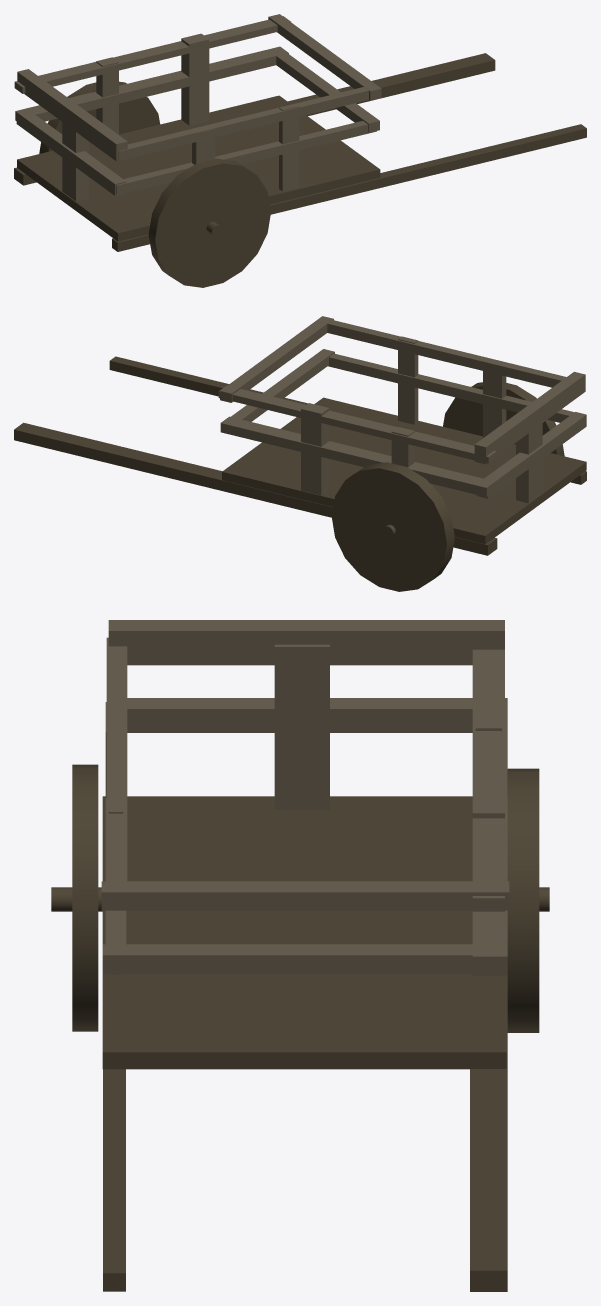
The model's file is carro.fbx.
The picture shows the model from 3 angles, top to bottom: view 1: azimuth 30°, elevation 25°; view 2: azimuth 150°, elevation 25°; view 3: azimuth 270°, elevation 25°; orthographic projection. The views are drawn at different scales.
Parts seen in each view (by area): view 1: Box017_1, Cylinder003_1, Cylinder002_1, Box003_1; view 2: Box017_1, Cylinder002_1, Cylinder003_1, Box003_1; view 3: Cylinder003_1, Box017_1, Cylinder002_1, Box003_1.
Part boxes in pixels (x1=…): Box017_1: x1=14, y1=14, x2=381, y2=201; Cylinder003_1: x1=17, y1=95, x2=380, y2=241; Cylinder002_1: x1=39, y1=81, x2=270, y2=287; Box003_1: x1=14, y1=53, x2=586, y2=251; Box017_1: x1=218, y1=316, x2=586, y2=503; Cylinder002_1: x1=331, y1=382, x2=564, y2=591; Cylinder003_1: x1=222, y1=397, x2=586, y2=544; Box003_1: x1=14, y1=356, x2=586, y2=555; Cylinder003_1: x1=51, y1=796, x2=549, y2=1069; Box017_1: x1=101, y1=620, x2=509, y2=975; Cylinder002_1: x1=72, y1=764, x2=539, y2=1032; Box003_1: x1=103, y1=975, x2=507, y2=1291.
Bounding box in the file's own units: 162 × 51.57 × 74.3.
2 materials, 2 textured.
